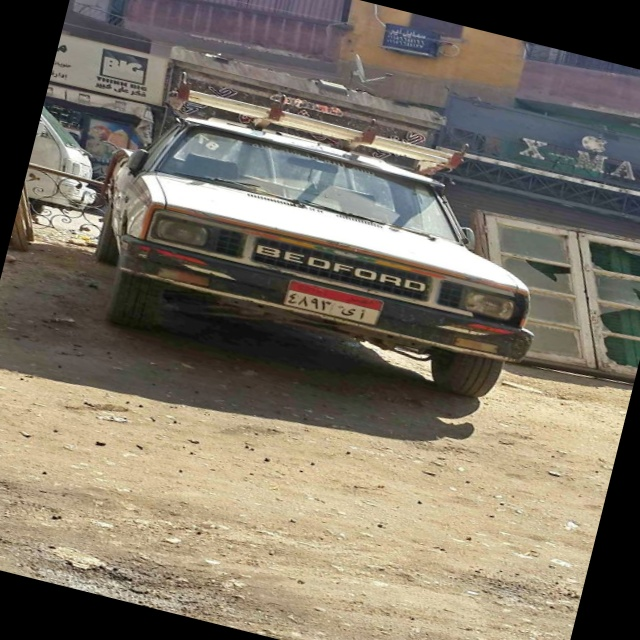License Plate: (278, 276, 387, 331)
